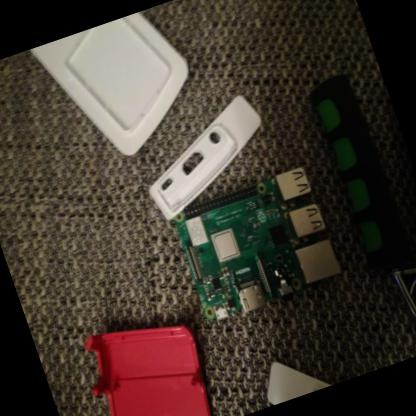Raspberry_Pi_3: (166, 159, 354, 333)
